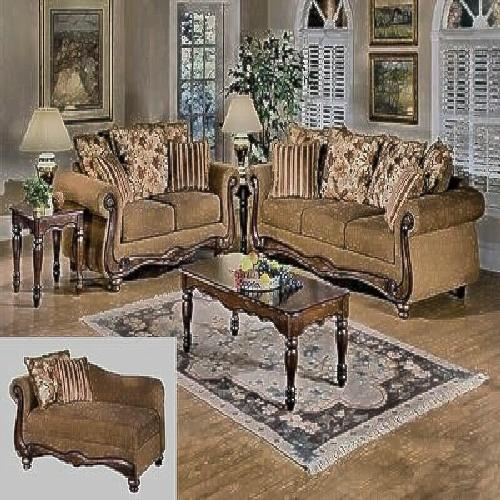sofa: (271, 126, 491, 307), (69, 132, 237, 269)
